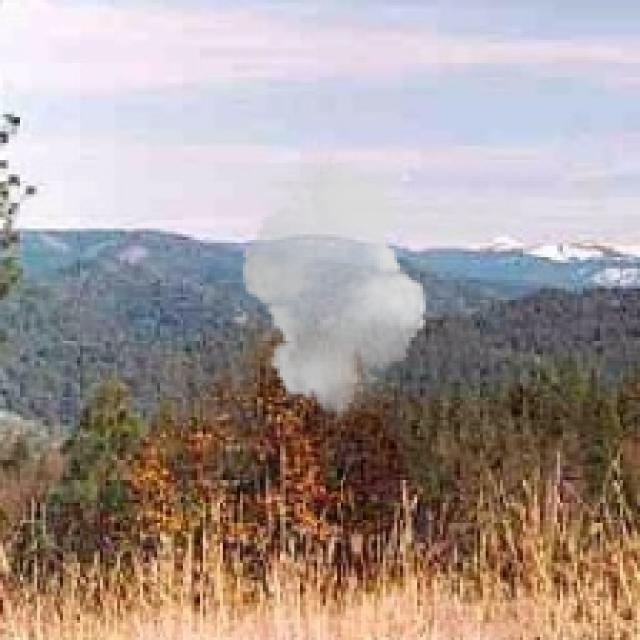Smoke: (235, 157, 434, 420)
